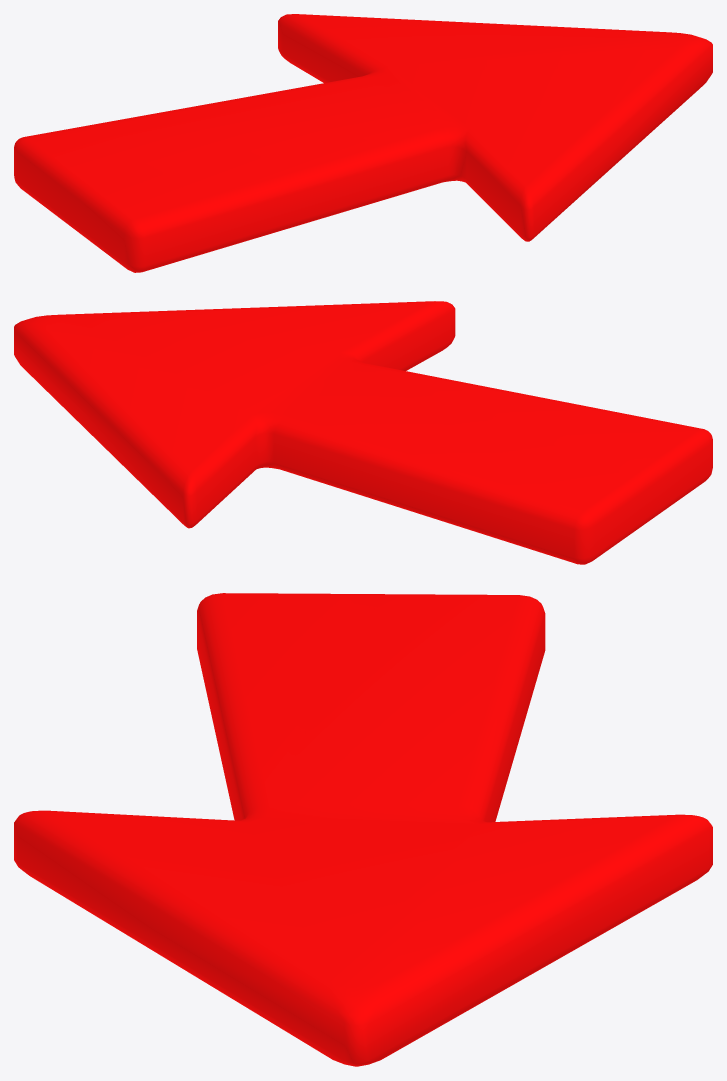
3 renders of one model, top to bottom at view 1: azimuth 30°, elevation 25°; view 2: azimuth 150°, elevation 25°; view 3: azimuth 270°, elevation 25°, orthographic. The views are drawn at different scales.
Visible parts, largest first — view 1: Arrow; view 2: Arrow; view 3: Arrow.
Boxes of the visible parts, x1,y1,x2,y2 form: Arrow: (14, 14, 712, 272); Arrow: (14, 301, 712, 564); Arrow: (14, 593, 712, 1066).
Size of the model in its own units: 3.01 by 0.2343 by 2.11.
